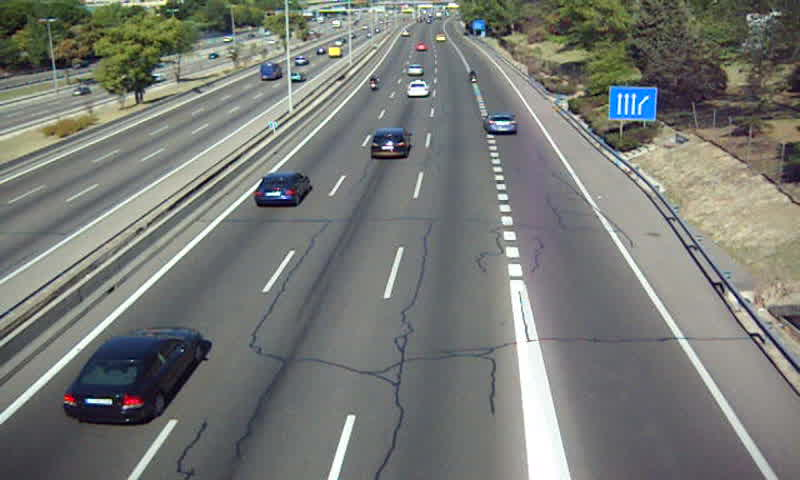car: (65, 329, 202, 423), (256, 171, 314, 206), (369, 128, 412, 158), (483, 111, 518, 135), (406, 80, 430, 98), (406, 62, 422, 76)
motorcycle: (468, 69, 480, 86), (369, 72, 378, 94)
